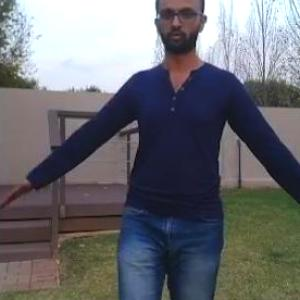land: (35, 0, 300, 299)
